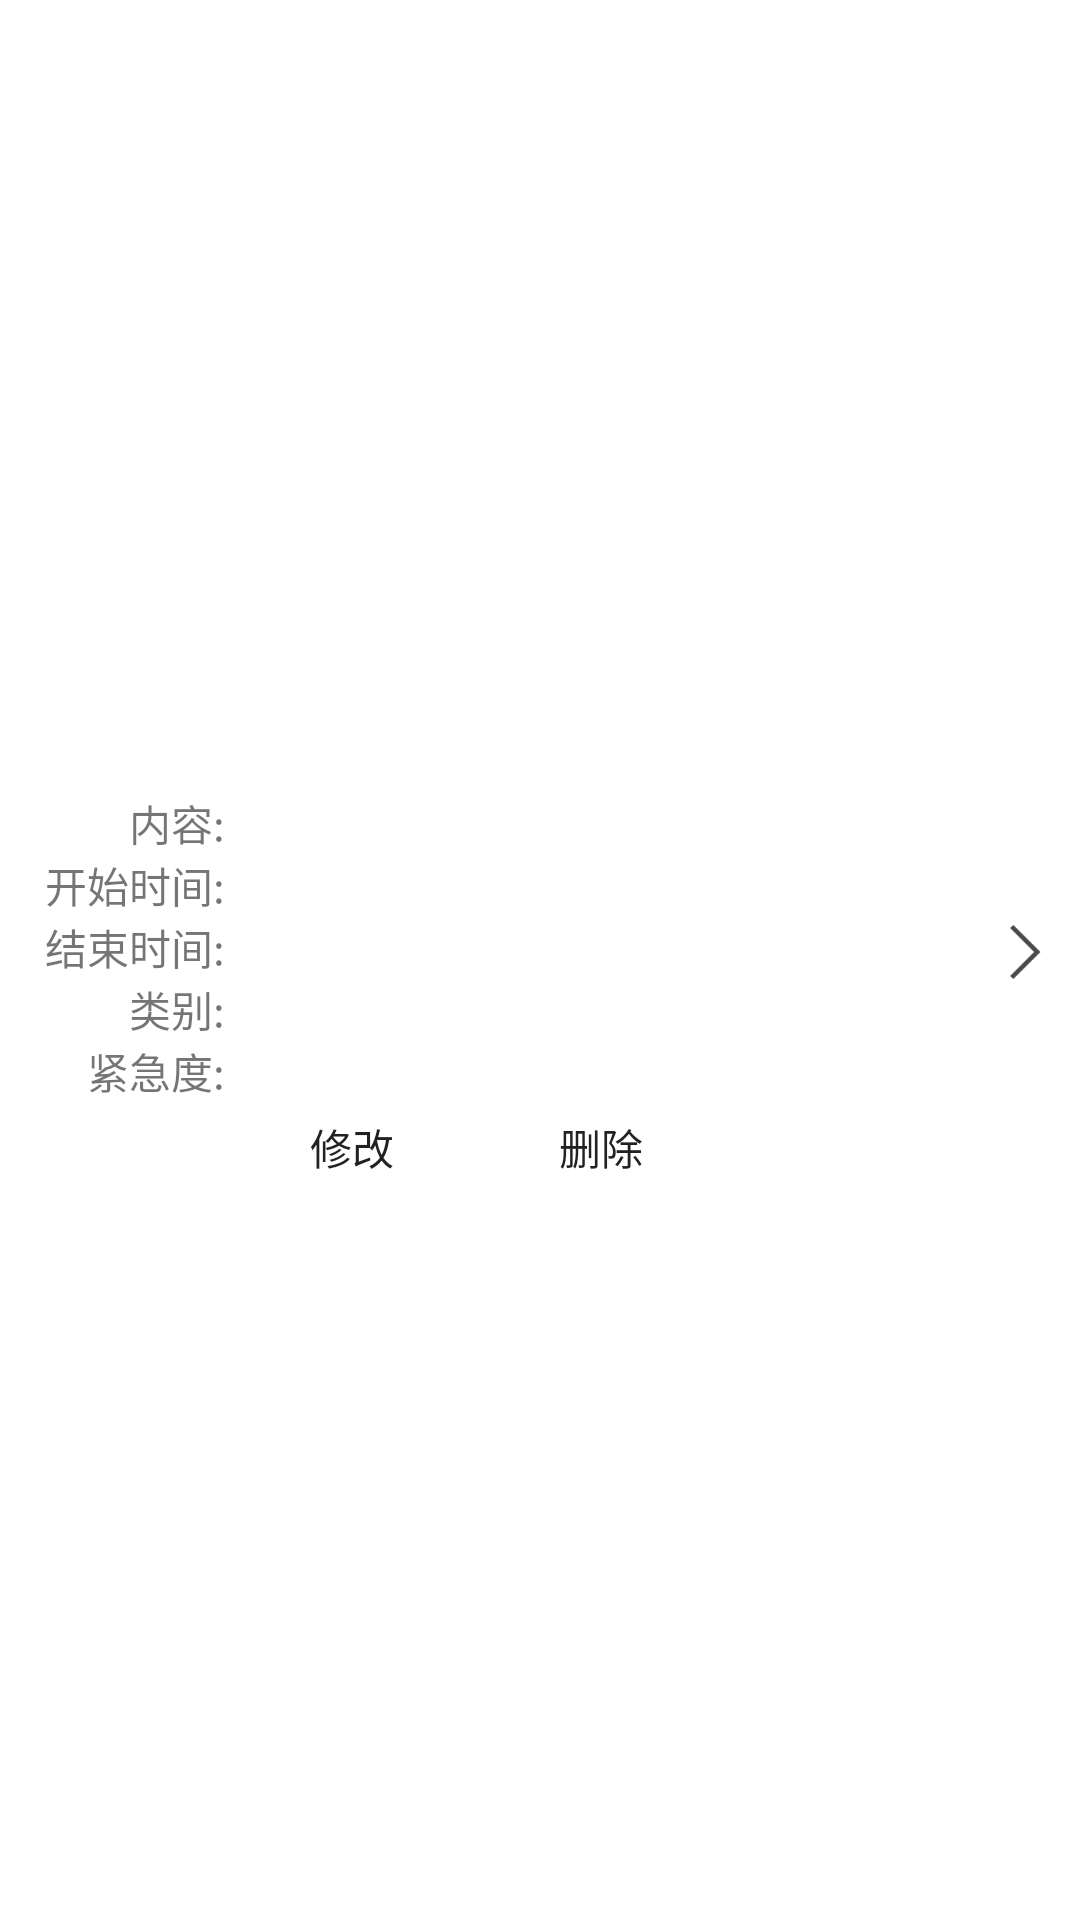

Point at icon controls on the screen. Image size 1080*1920, points as [x,y].
arrow right: [1025,952]
